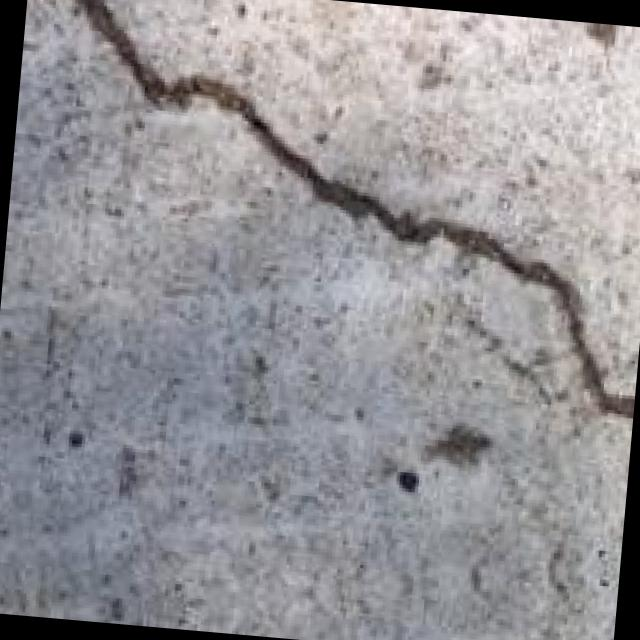crack: (12, 0, 640, 434)
